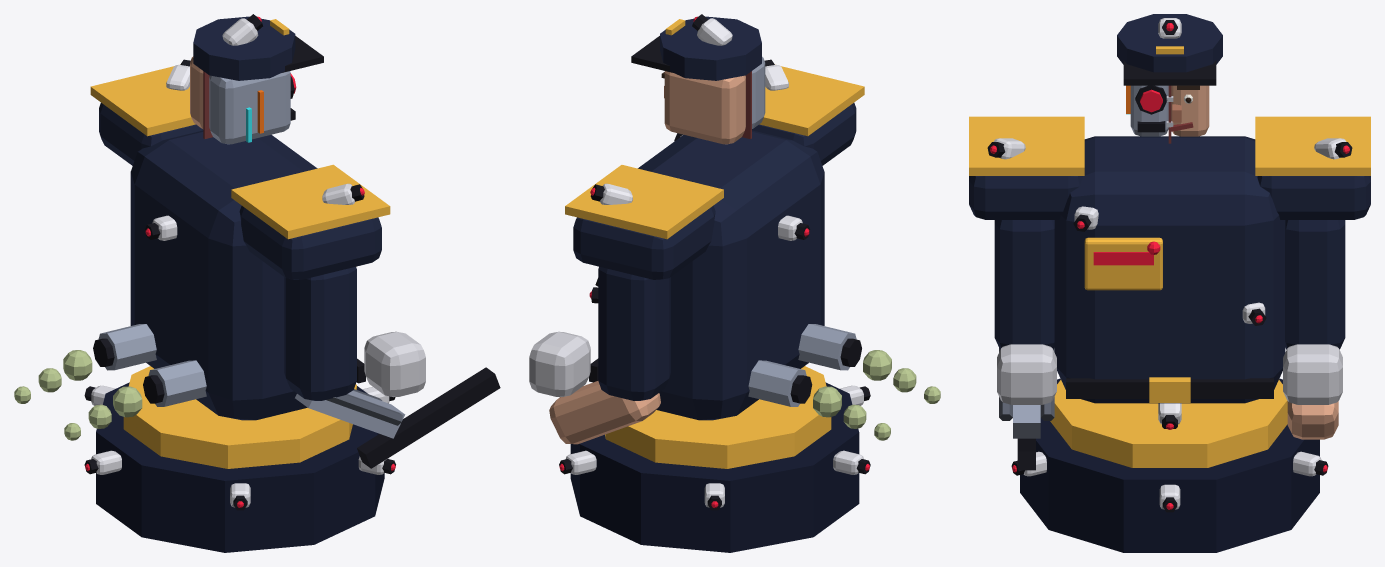
The model's file is al2prout.glb.
3 renders of one model, left to right at view 1: azimuth 30°, elevation 25°; view 2: azimuth 150°, elevation 25°; view 3: azimuth 270°, elevation 25°, orthographic.
Visible parts, largest first — view 1: p_rbox.1169, p_cyl.813, p_cyl.814, p_rbox.1173, p_box.4103, p_rbox.1170, p_cyl.819, p_rbox.1179, p_box.4104, p_box.4109, p_rbox.1174, p_rbox.1171 (+9 smaller); view 2: p_rbox.1169, p_cyl.813, p_cyl.814, p_rbox.1175, p_box.4104, p_rbox.1171, p_rbox.1178, p_cyl.819, p_box.4103, p_rbox.1176, p_rbox.1177, p_rbox.1170 (+13 smaller); view 3: p_rbox.1169, p_cyl.813, p_cyl.814, p_rbox.1175, p_rbox.1173, p_box.4103, p_box.4104, p_cyl.819, p_rbox.1170, p_rbox.1171, p_rbox.1177, p_rbox.1174 (+11 smaller).
Boxes of the visible parts, x1,y1,x2,y2 form: p_rbox.1169: (130,130,317,420); p_cyl.813: (96,382,384,552); p_cyl.814: (123,366,356,468); p_rbox.1173: (284,266,356,400); p_box.4103: (231,164,390,239); p_rbox.1170: (239,206,381,279); p_cyl.819: (193,16,295,80); p_rbox.1179: (209,71,290,144); p_box.4104: (90,66,195,136); p_box.4109: (357,367,500,468); p_rbox.1174: (364,331,425,397); p_rbox.1171: (99,103,203,165); p_rbox.1169: (638,130,824,420); p_cyl.813: (570,382,859,552); p_cyl.814: (605,366,831,468); p_rbox.1175: (598,266,670,400); p_box.4104: (565,165,723,239); p_rbox.1171: (573,205,715,279); p_rbox.1178: (664,71,745,144); p_cyl.819: (660,16,761,80); p_box.4103: (759,64,864,136); p_rbox.1176: (549,381,660,444); p_rbox.1177: (529,331,590,396); p_rbox.1170: (752,103,856,165); p_rbox.1169: (1054,136,1285,403); p_cyl.813: (1020,378,1319,552); p_cyl.814: (1050,380,1287,467); p_rbox.1175: (1285,220,1345,349); p_rbox.1173: (994,220,1054,349); p_box.4103: (969,116,1084,175); p_box.4104: (1255,116,1370,175); p_cyl.819: (1117,14,1222,72); p_rbox.1170: (969,176,1082,219); p_rbox.1171: (1257,176,1370,219); p_rbox.1177: (1283,344,1342,404); p_rbox.1174: (997,344,1056,404).
Size of the model in its own units: 1.96 by 2.29 by 1.74.
